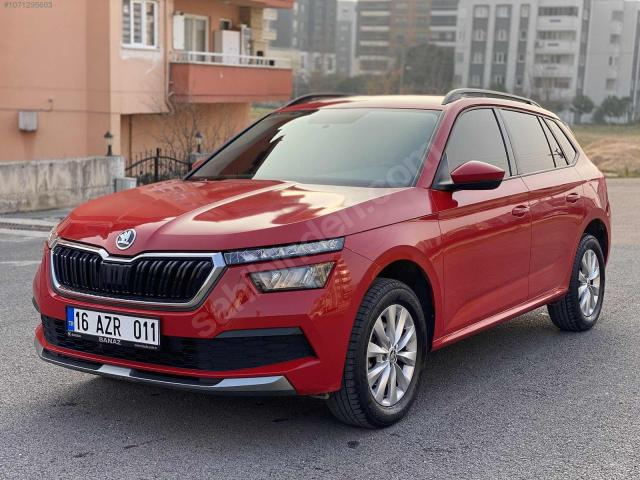plaka: (67, 308, 160, 348)
